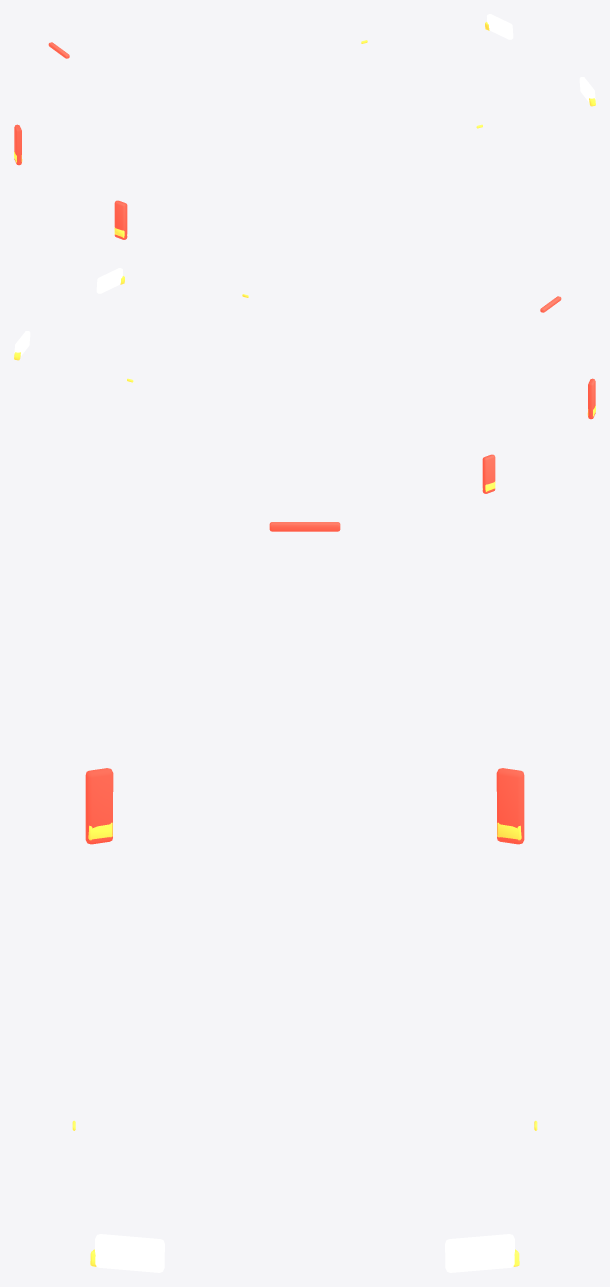
File: Lights.glb
3 renders of one model, top to bottom at view 1: azimuth 30°, elevation 25°; view 2: azimuth 150°, elevation 25°; view 3: azimuth 270°, elevation 25°, orthographic. The views are drawn at different scales.
Parts seen in each view (by area): view 1: Lights; view 2: Lights; view 3: Lights.
Boxes of the visible parts, <box> form: Lights: <box>14,14,595,239</box>; Lights: <box>14,268,595,493</box>; Lights: <box>72,522,537,1272</box>.
Size of the model in its own units: 4.82 by 1.45 by 1.97.
